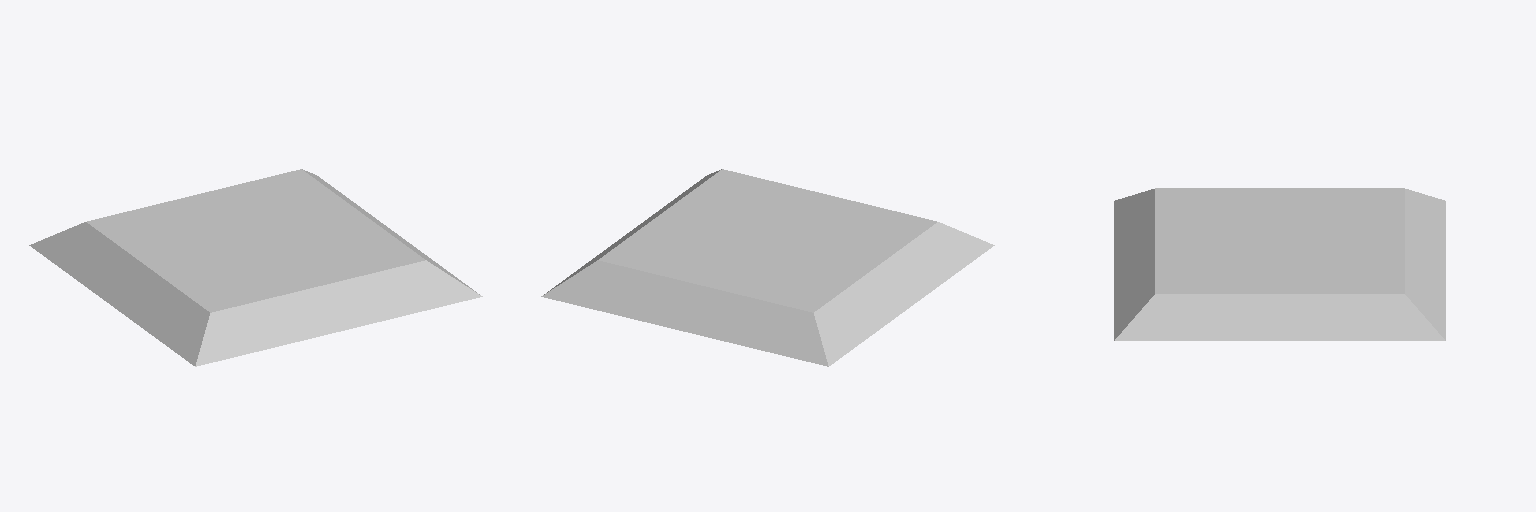
File: tile.obj
3 views of the same model, side by side, from view 1: azimuth 30°, elevation 25°; view 2: azimuth 150°, elevation 25°; view 3: azimuth 270°, elevation 25° (orthographic).
Visible parts, largest first — view 1: Cube; view 2: Cube; view 3: Cube.
Part boxes in pixels (x1,y1,x2,y2): Cube: (29, 169, 482, 366); Cube: (541, 169, 994, 366); Cube: (1114, 188, 1445, 340).
Bounding box in the file's own units: 2 × 0.2 × 2.